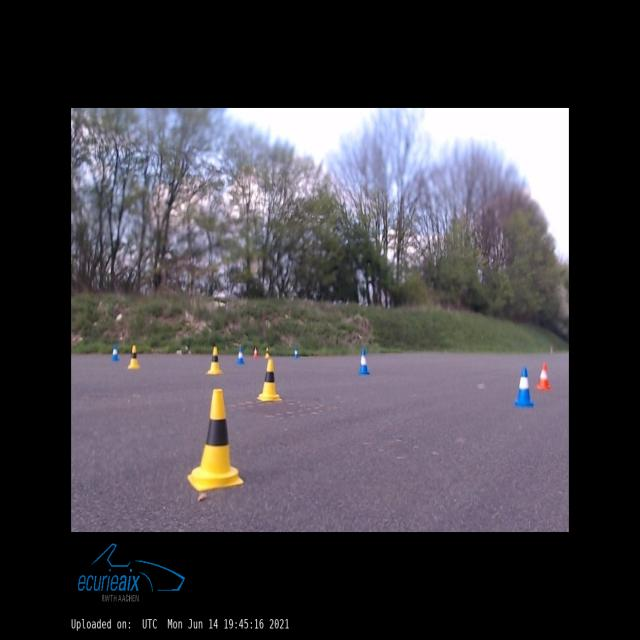blue_cone: (514, 367, 534, 407), (358, 348, 370, 374), (111, 345, 119, 361), (237, 347, 245, 363), (294, 348, 298, 358)
orange_cone: (537, 363, 551, 390), (253, 347, 258, 356)
yellow_cone: (188, 389, 244, 492), (257, 359, 281, 401), (206, 347, 222, 374), (128, 344, 139, 368), (265, 348, 270, 358)
